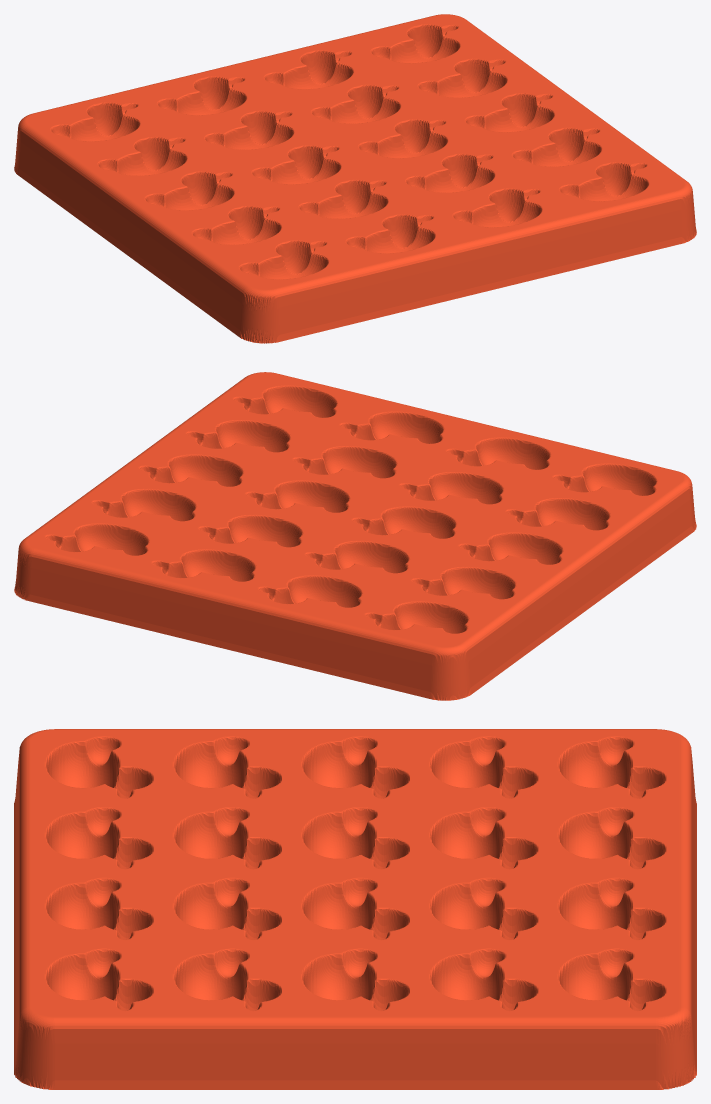
The model's file is mold.glb.
3 renders of one model, top to bottom at view 1: azimuth 30°, elevation 25°; view 2: azimuth 150°, elevation 25°; view 3: azimuth 270°, elevation 25°, orthographic. The views are drawn at different scales.
Parts seen in each view (by area): view 1: geometry_0; view 2: geometry_0; view 3: geometry_0.
Part boxes in pixels (left/top/right/bottom): geometry_0: left=14, top=14, right=696, bottom=343; geometry_0: left=14, top=372, right=696, bottom=700; geometry_0: left=14, top=729, right=696, bottom=1089.
Size of the model in its own units: 0.1563 by 0.0159 by 0.1499.
